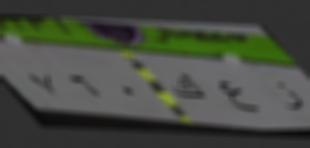0: (118, 79, 137, 107)
6: (70, 72, 101, 101)
7: (29, 68, 58, 98)
ain: (215, 78, 261, 117)
kaaf: (172, 71, 205, 103)
zay: (273, 77, 305, 116)
